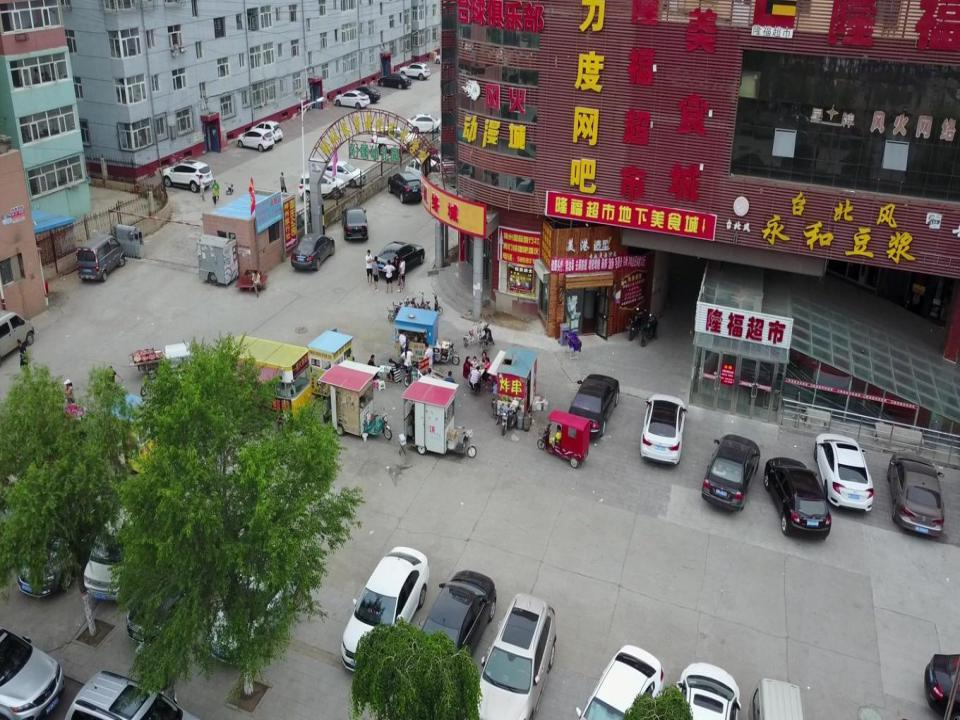car: (402, 571, 496, 692), (340, 549, 431, 672), (210, 550, 305, 666), (14, 483, 111, 596), (129, 536, 225, 650), (475, 594, 556, 720), (576, 644, 668, 720), (0, 630, 63, 720), (764, 458, 832, 540), (890, 452, 946, 536), (814, 434, 874, 510), (701, 433, 759, 510), (672, 659, 740, 720), (640, 394, 688, 467), (568, 373, 621, 439), (375, 241, 423, 281), (292, 232, 334, 272), (318, 157, 365, 189), (298, 169, 346, 200), (371, 124, 417, 156), (162, 162, 214, 190), (388, 167, 422, 204), (405, 158, 441, 190), (340, 206, 369, 242), (406, 111, 442, 135), (399, 59, 430, 84), (238, 130, 273, 152), (376, 70, 412, 90), (250, 121, 282, 143), (335, 90, 370, 110), (350, 85, 380, 105)
van: (74, 236, 124, 282), (0, 310, 34, 367)
